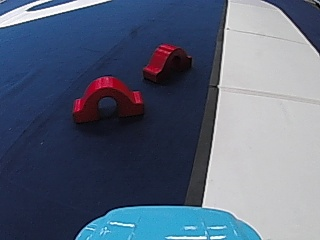bridge: (68, 72, 146, 123), (141, 40, 192, 84)
